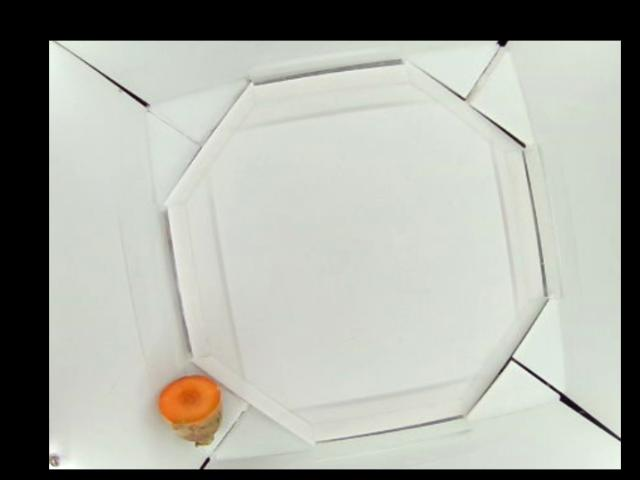Carrot: (158, 376, 223, 446)
